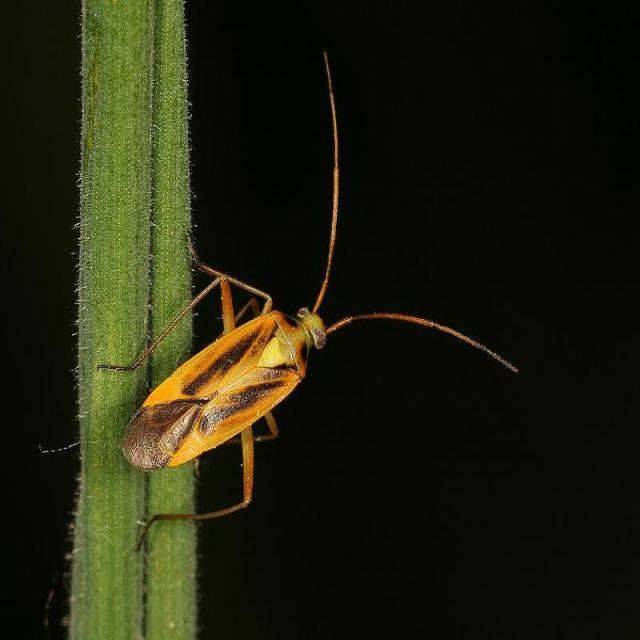Miridae-Adult-: (93, 44, 514, 545)
